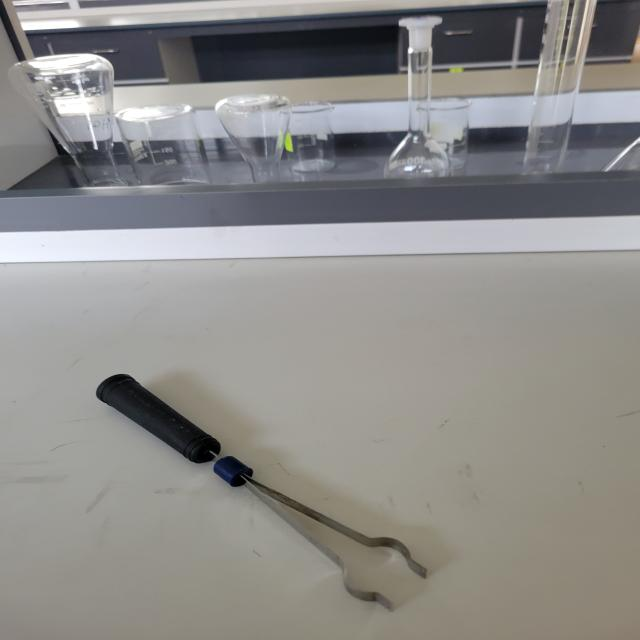TestTube_Holder: (64, 342, 446, 635)
